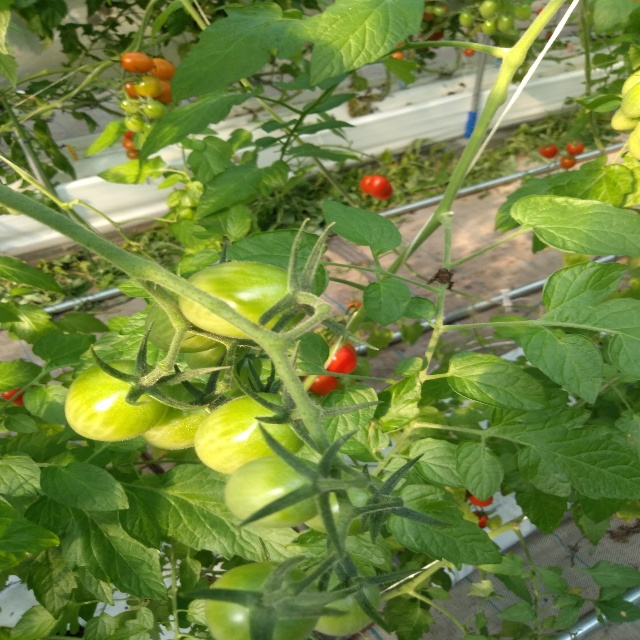l_fully_ripened: (327, 345, 357, 376), (305, 374, 338, 395)
l_green: (179, 261, 307, 339), (194, 392, 313, 474), (204, 561, 322, 640), (64, 359, 174, 442), (223, 454, 330, 528), (303, 465, 394, 537), (139, 382, 226, 450), (306, 562, 381, 636), (144, 293, 233, 353), (183, 337, 253, 374)
